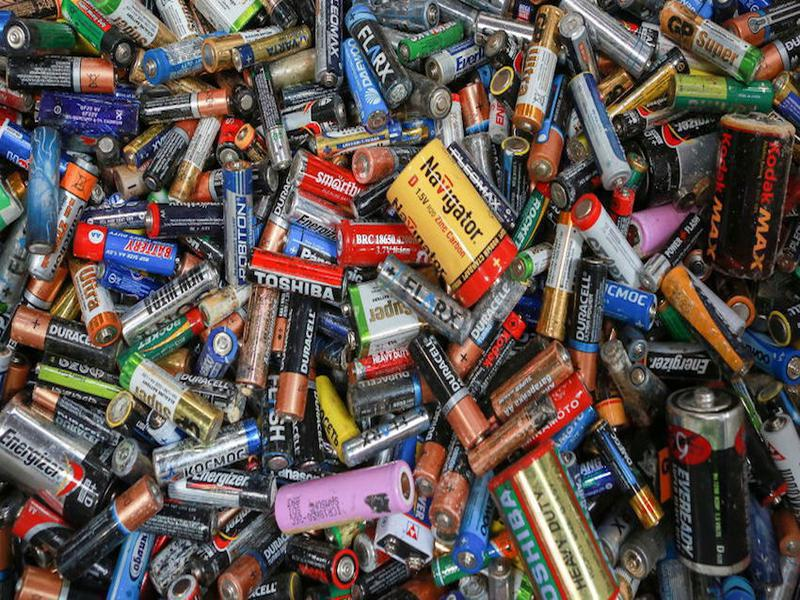battery: (380, 134, 520, 312), (658, 378, 770, 585), (488, 441, 628, 600), (698, 103, 795, 290), (1, 391, 119, 529), (49, 468, 167, 587), (273, 456, 418, 541), (401, 329, 497, 451), (110, 348, 225, 443), (651, 1, 768, 84), (339, 3, 419, 109), (567, 69, 636, 191), (14, 120, 71, 256), (505, 6, 562, 140), (269, 295, 329, 422), (68, 218, 188, 280), (244, 248, 352, 303), (2, 53, 121, 100)
